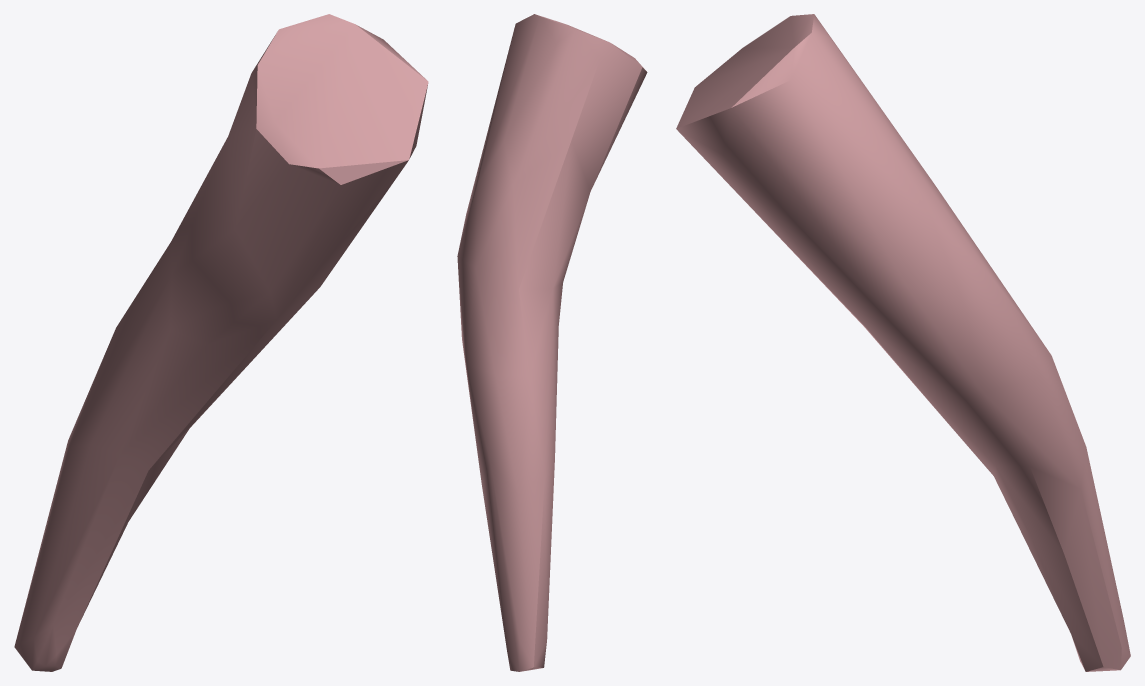
File: fma68228_fj6526.glb
3 views of the same model, side by side, from view 1: azimuth 30°, elevation 25°; view 2: azimuth 150°, elevation 25°; view 3: azimuth 270°, elevation 25° (orthographic). The views are drawn at different scales.
Visible parts, largest first — view 1: FMA68228_FJ6526; view 2: FMA68228_FJ6526; view 3: FMA68228_FJ6526.
Boxes of the visible parts, left/top/right/bottom form: FMA68228_FJ6526: left=14, top=14, right=428, bottom=671; FMA68228_FJ6526: left=457, top=14, right=647, bottom=671; FMA68228_FJ6526: left=676, top=14, right=1130, bottom=671.
Size of the model in its own units: 0.00702 by 0.0233 by 0.0137.
